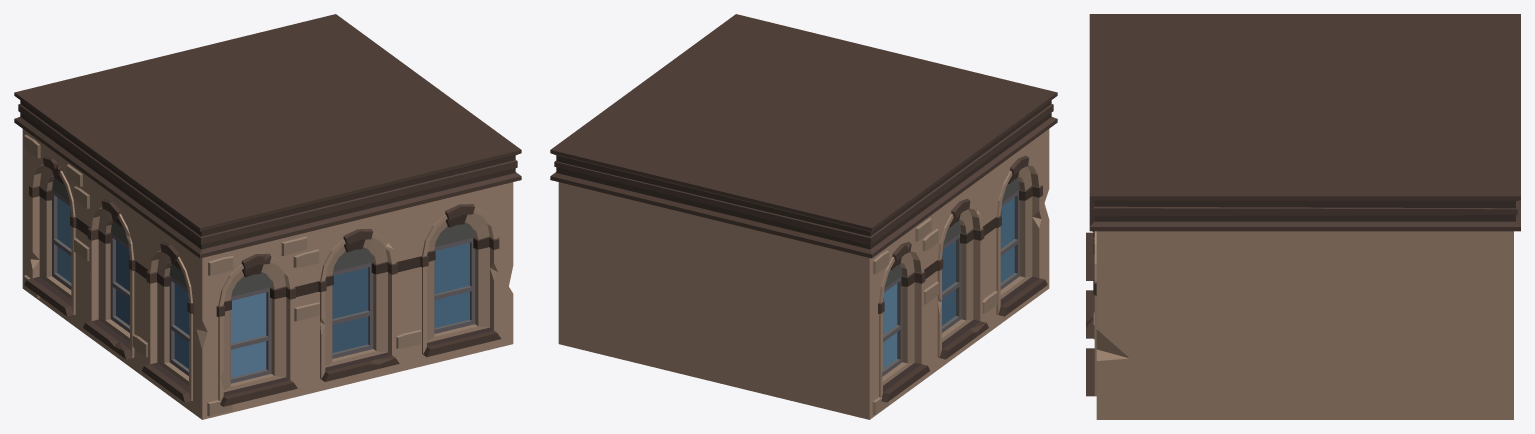
Rendered from SM_Bld_Apartment_Corner_02.obj.
3 renders of one model, left to right at view 1: azimuth 30°, elevation 25°; view 2: azimuth 150°, elevation 25°; view 3: azimuth 270°, elevation 25°, orthographic. The views are drawn at different scales.
Visible parts, largest first — view 1: SM_Bld_Apartment_Corner_02_0; view 2: SM_Bld_Apartment_Corner_02_0; view 3: SM_Bld_Apartment_Corner_02_0.
Part boxes in pixels (left/top/right/bottom): SM_Bld_Apartment_Corner_02_0: left=14, top=14, right=521, bottom=419; SM_Bld_Apartment_Corner_02_0: left=550, top=14, right=1057, bottom=419; SM_Bld_Apartment_Corner_02_0: left=1086, top=14, right=1520, bottom=419.
Size of the model in its own units: 5.21 by 3 by 5.21.
Materials: 1 (1 with a texture image).
